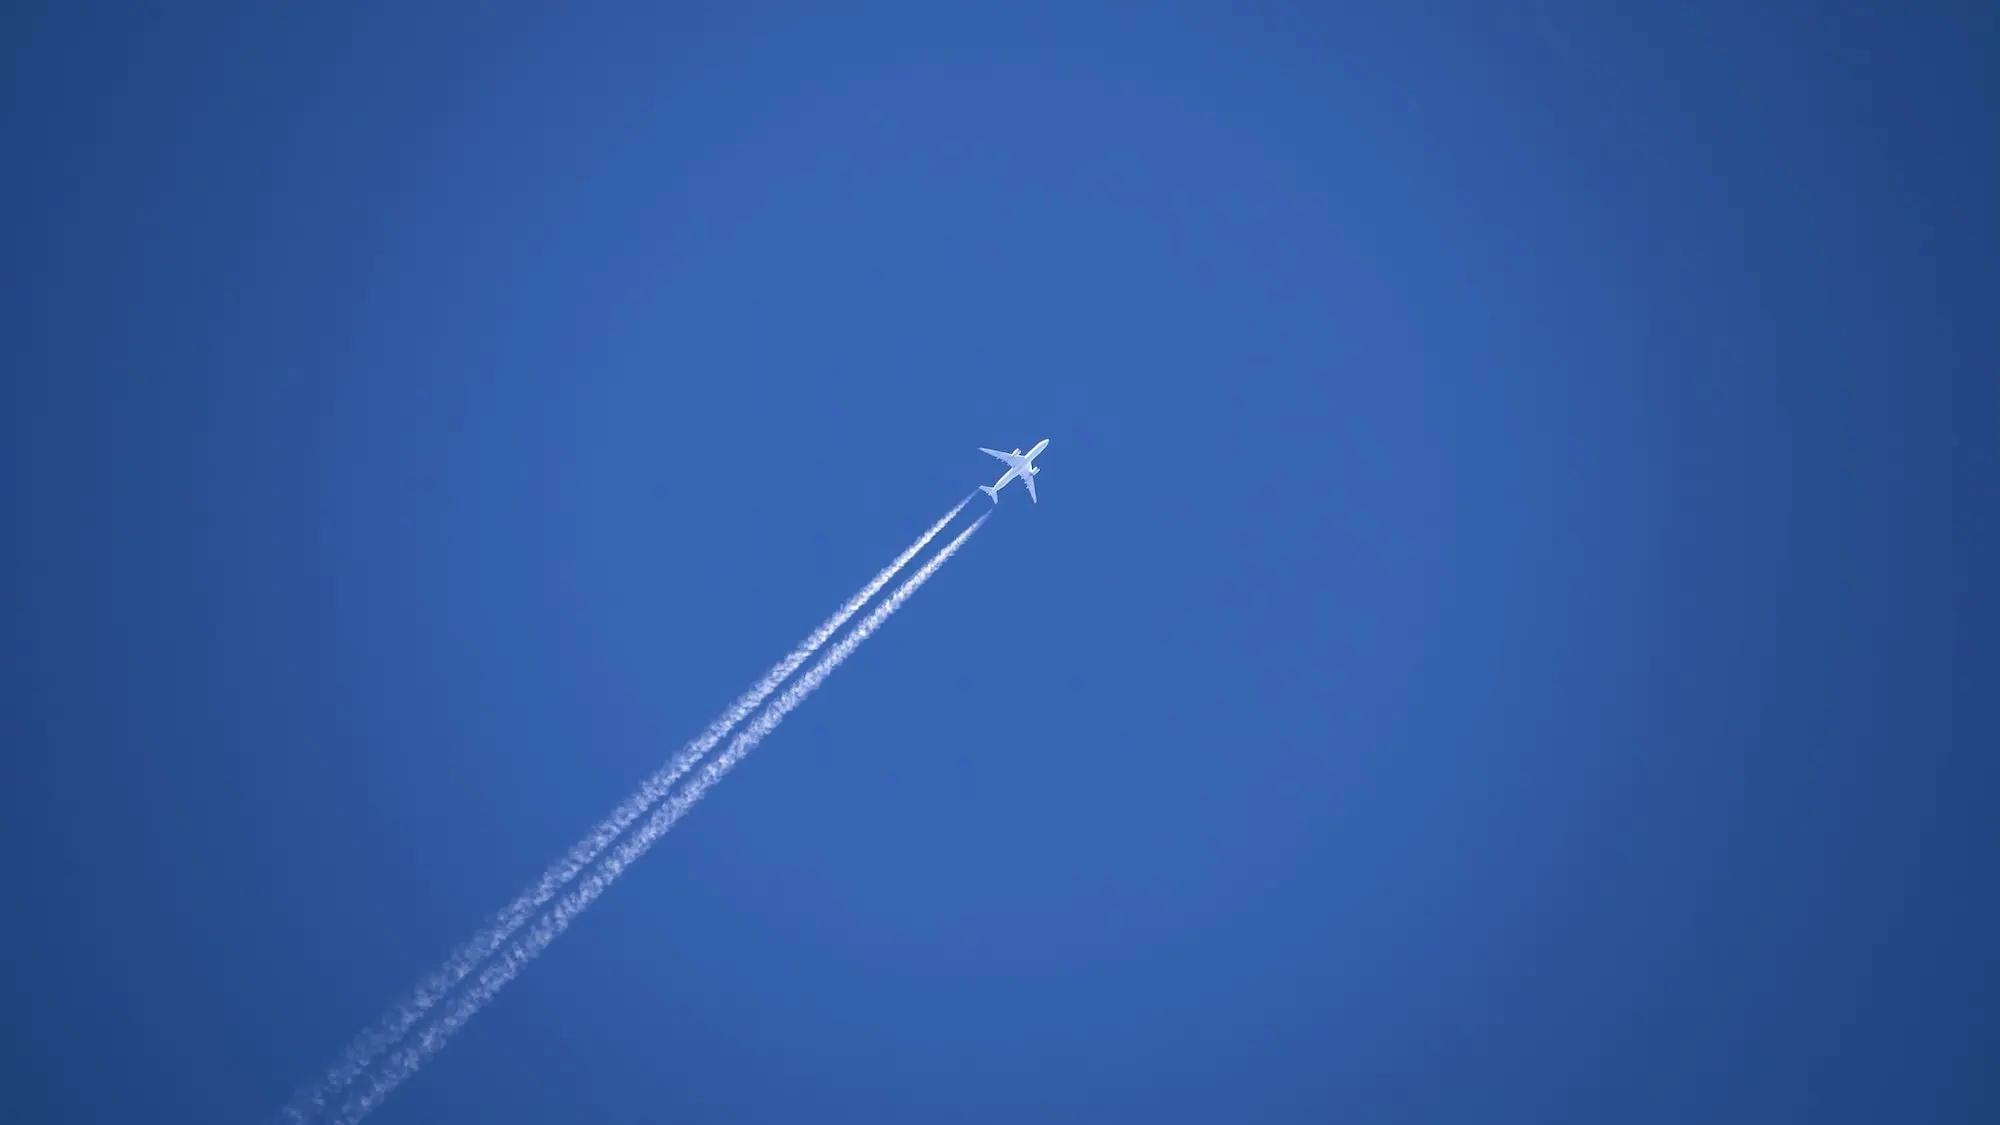Plane: (596, 409, 1126, 927)
